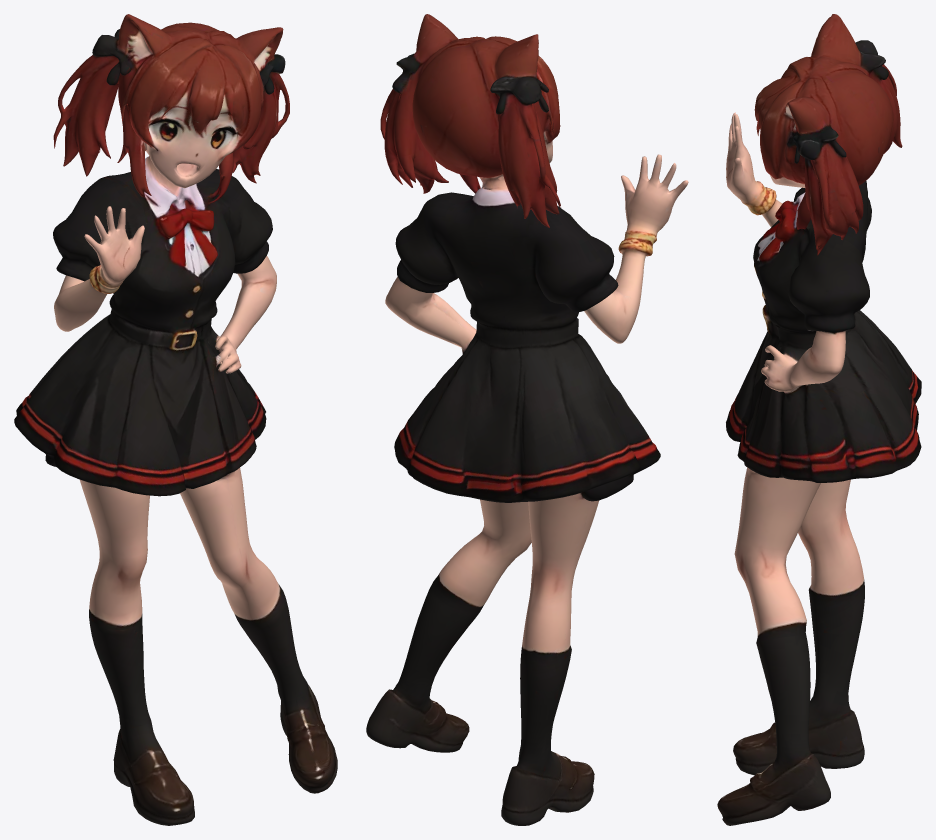
The model's file is yamei.glb.
3 renders of one model, left to right at view 1: azimuth 30°, elevation 25°; view 2: azimuth 150°, elevation 25°; view 3: azimuth 270°, elevation 25°, orthographic. The views are drawn at different scales.
Visible parts, largest first — view 1: model; view 2: model; view 3: model.
Boxes of the visible parts, x1,y1,x2,y2 form: model: (14,14,337,825); model: (366,14,688,825); model: (717,14,921,825).
Bounding box in the file's own units: 0.6933 × 1.89 × 0.4659.
Materials: 1 (1 with a texture image).
